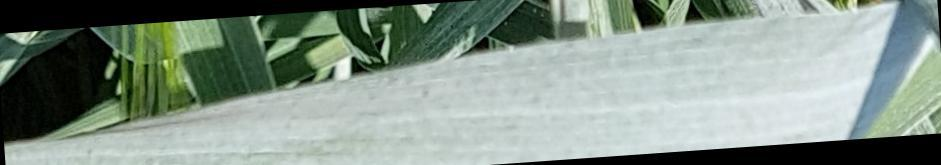Wheat: (657, 22, 864, 141), (438, 54, 648, 151), (871, 6, 931, 130)
